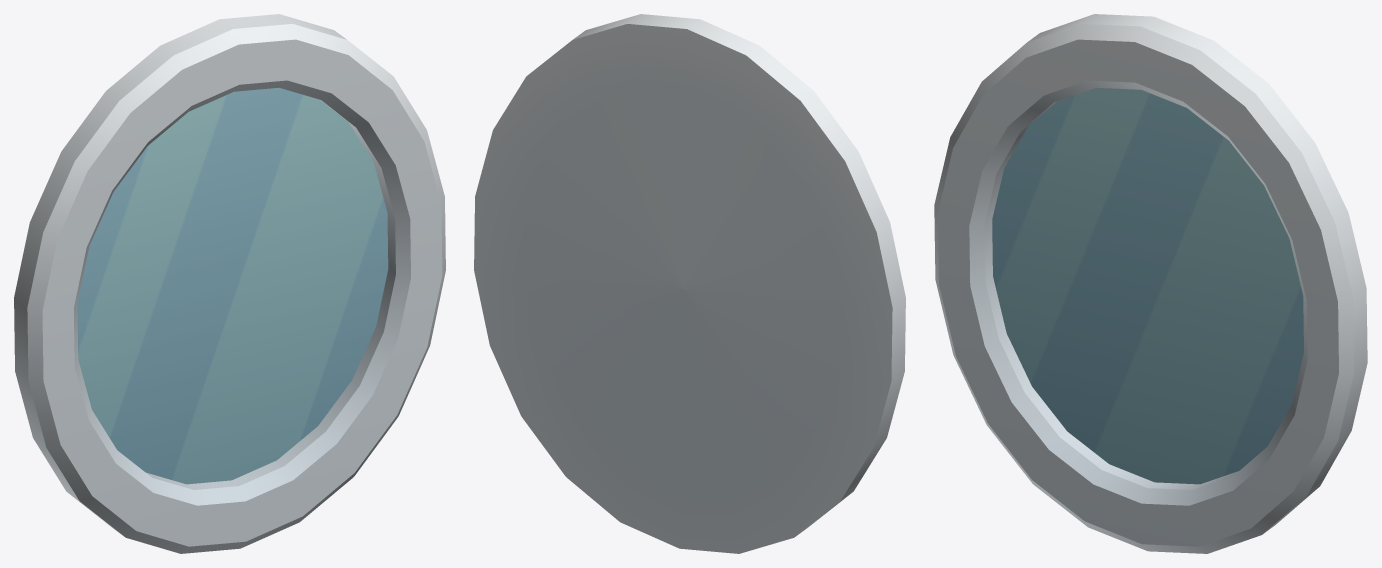
Rendered from mirror.fbx.
3 renders of one model, left to right at view 1: azimuth 30°, elevation 25°; view 2: azimuth 150°, elevation 25°; view 3: azimuth 330°, elevation 25°, orthographic.
Visible parts, largest first — view 1: mirror; view 2: mirror; view 3: mirror.
Boxes of the visible parts, x1,y1,x2,y2 form: mirror: (14, 14, 445, 553); mirror: (474, 14, 905, 553); mirror: (934, 14, 1367, 553).
Size of the model in its own units: 1.26 by 1.5 by 0.1.
